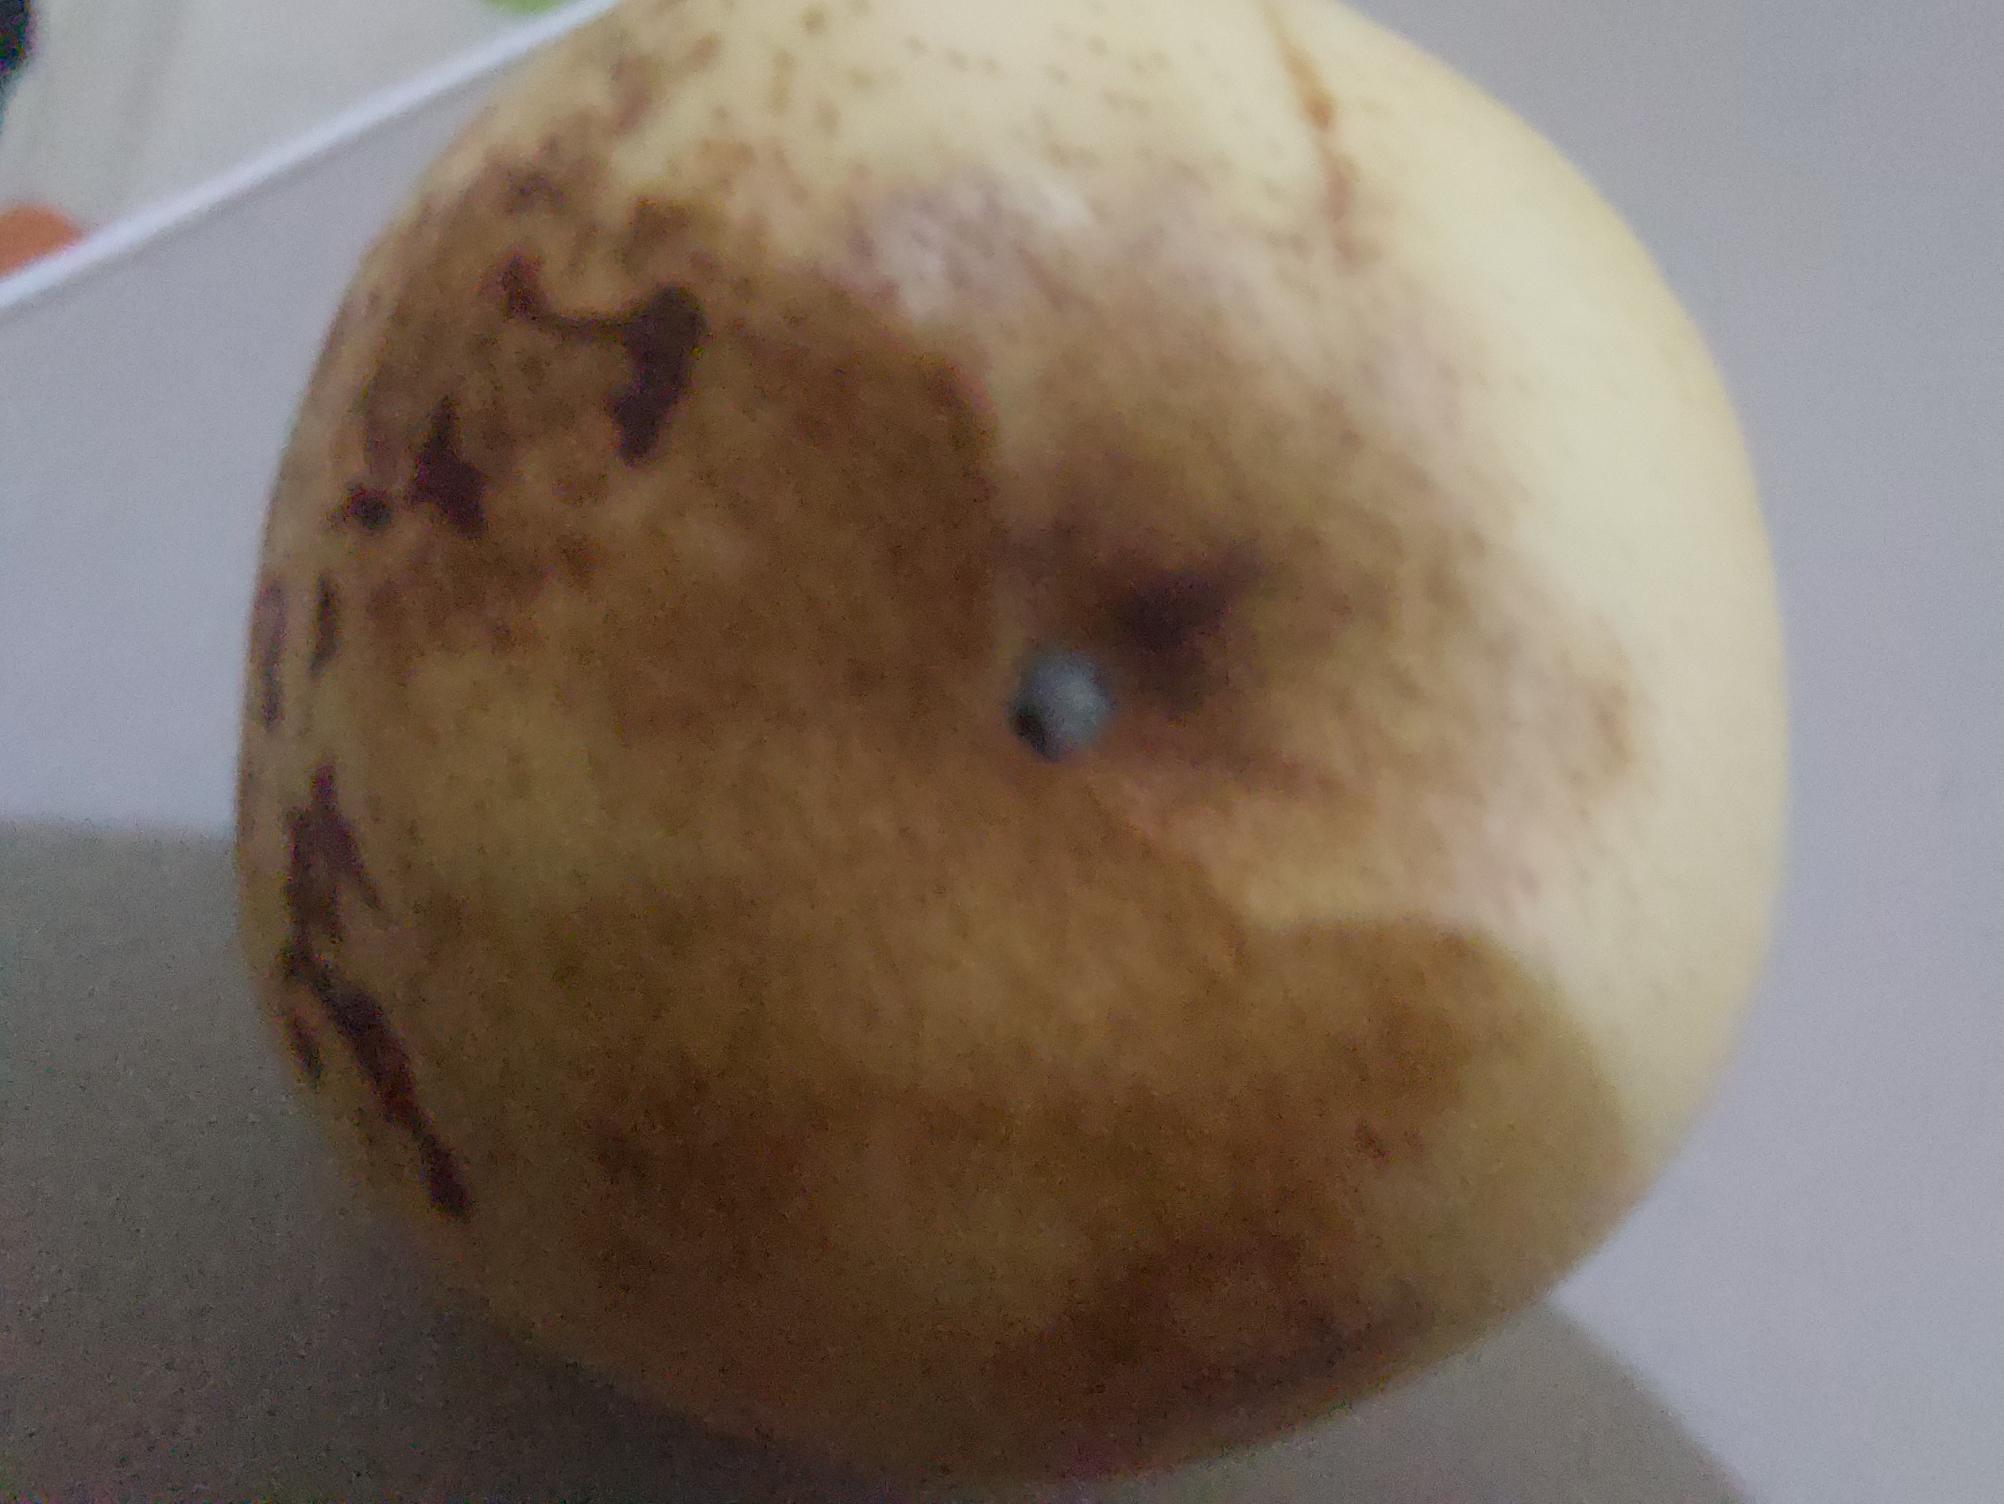Bad Pear: (224, 0, 1775, 1501)
